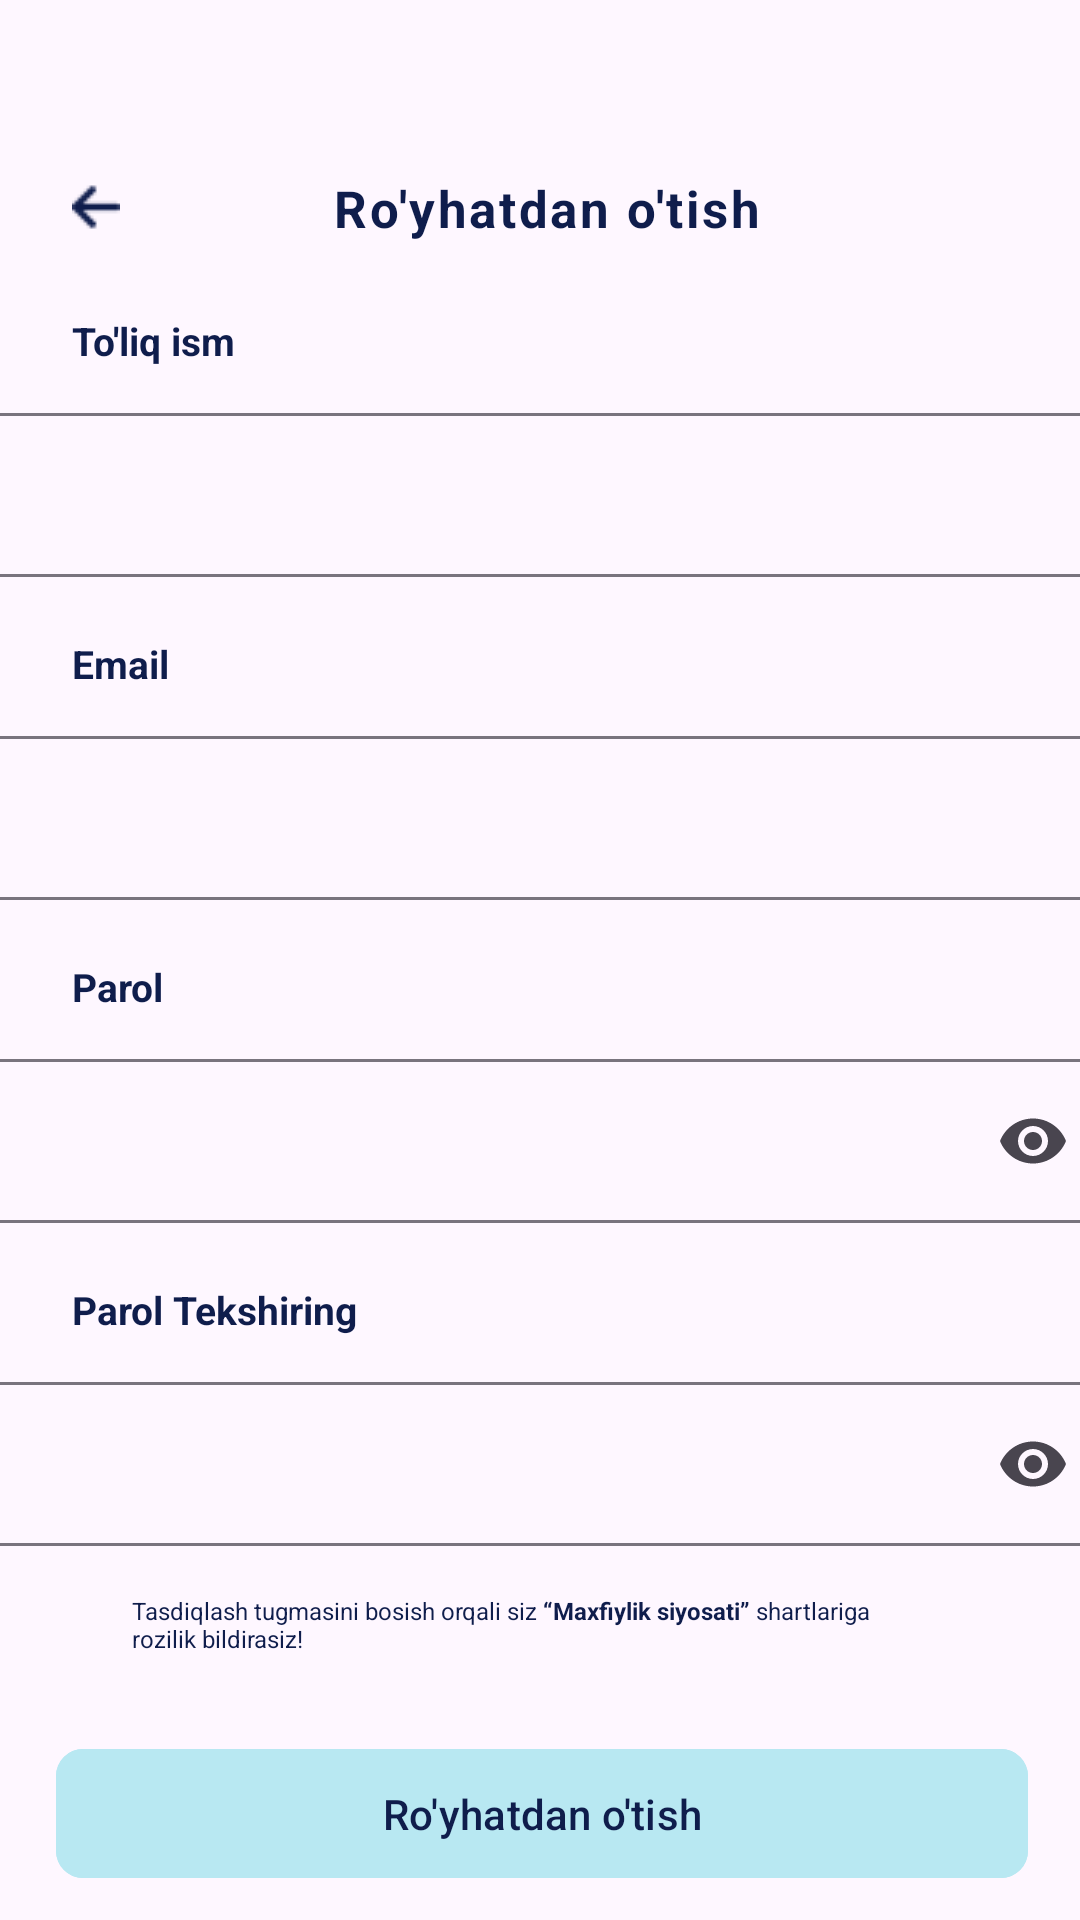

Named icons in this screenshot (1080w x 1920h) and their bounding boxes, bbox(x1, y1, x2, y2):
back: bbox(72, 185, 120, 229)
